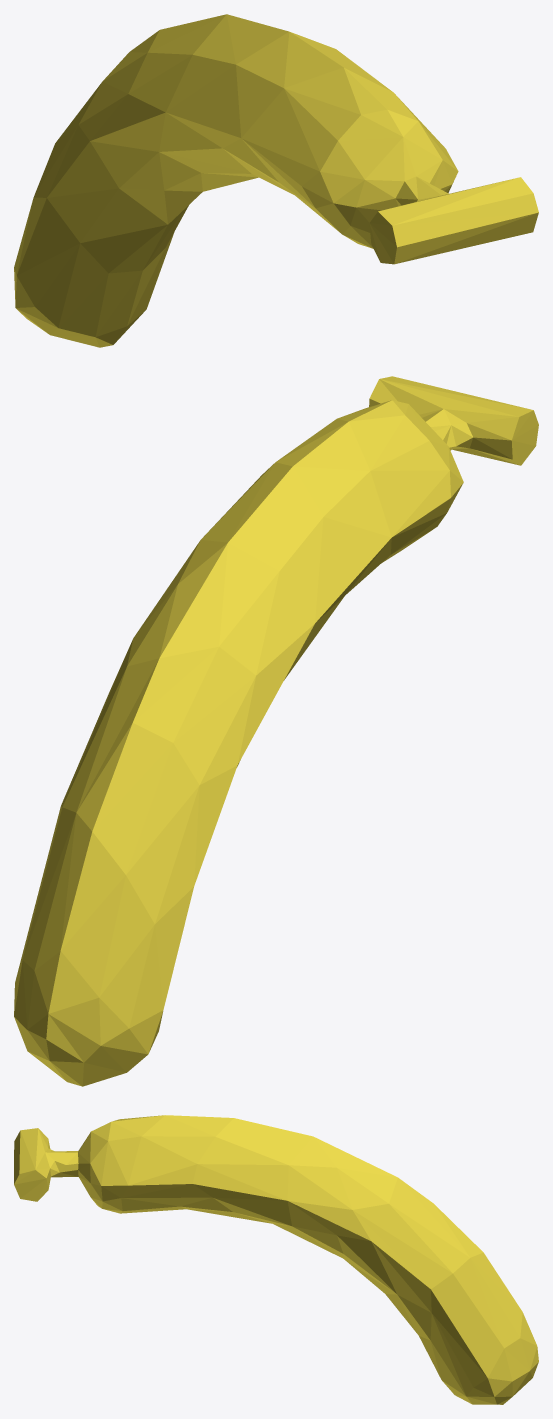
The model's file is bnn.fbx.
The picture shows the model from 3 angles, top to bottom: view 1: azimuth 30°, elevation 25°; view 2: azimuth 150°, elevation 25°; view 3: azimuth 270°, elevation 25°; orthographic projection. The views are drawn at different scales.
Visible parts, largest first — view 1: 零件1-2; view 2: 零件1-2; view 3: 零件1-2.
Part boxes in pixels (box(x1,y1,x2,y2)): 零件1-2: box(14, 14, 538, 347); 零件1-2: box(14, 376, 538, 1086); 零件1-2: box(14, 1115, 538, 1404).
Size of the model in its own units: 2956 by 8842 by 14606.
